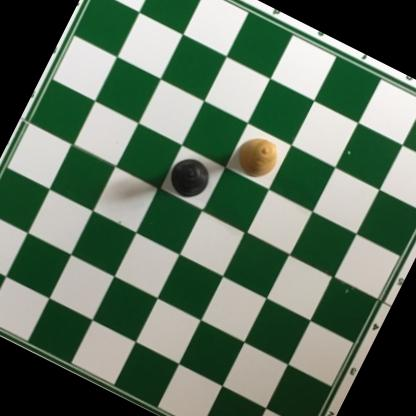black-queen: (163, 152, 217, 205)
white-queen: (229, 128, 287, 185)
